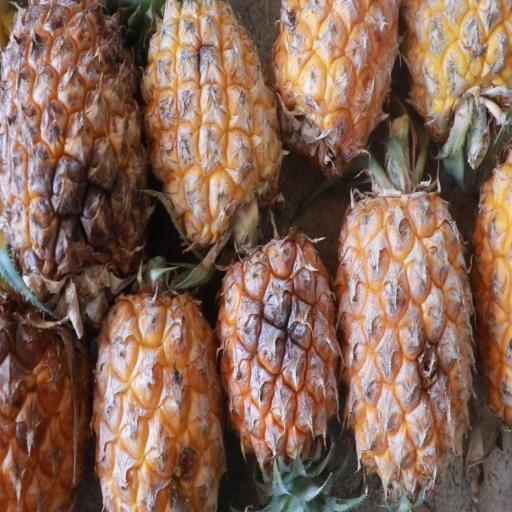Pineapple - v8 v1: (0, 0, 150, 304), (334, 185, 476, 504), (138, 0, 281, 246), (89, 275, 223, 512), (216, 231, 342, 470), (270, 0, 404, 172), (0, 293, 92, 512), (402, 1, 512, 167)
